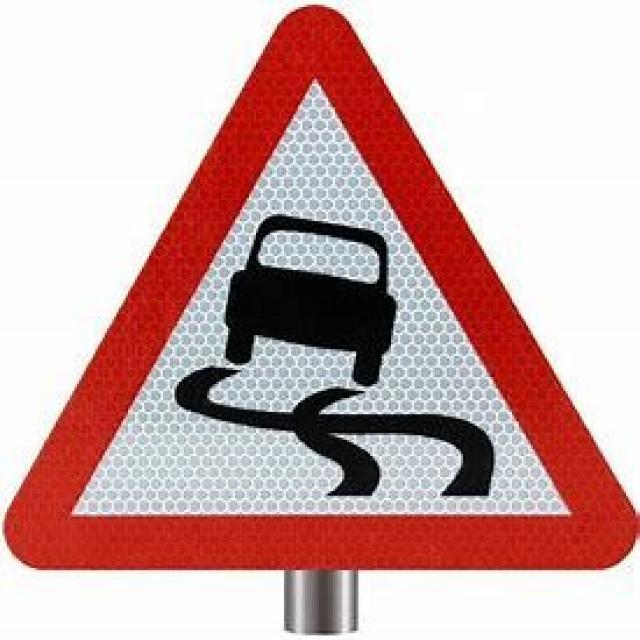slippery road: (20, 19, 617, 573)
